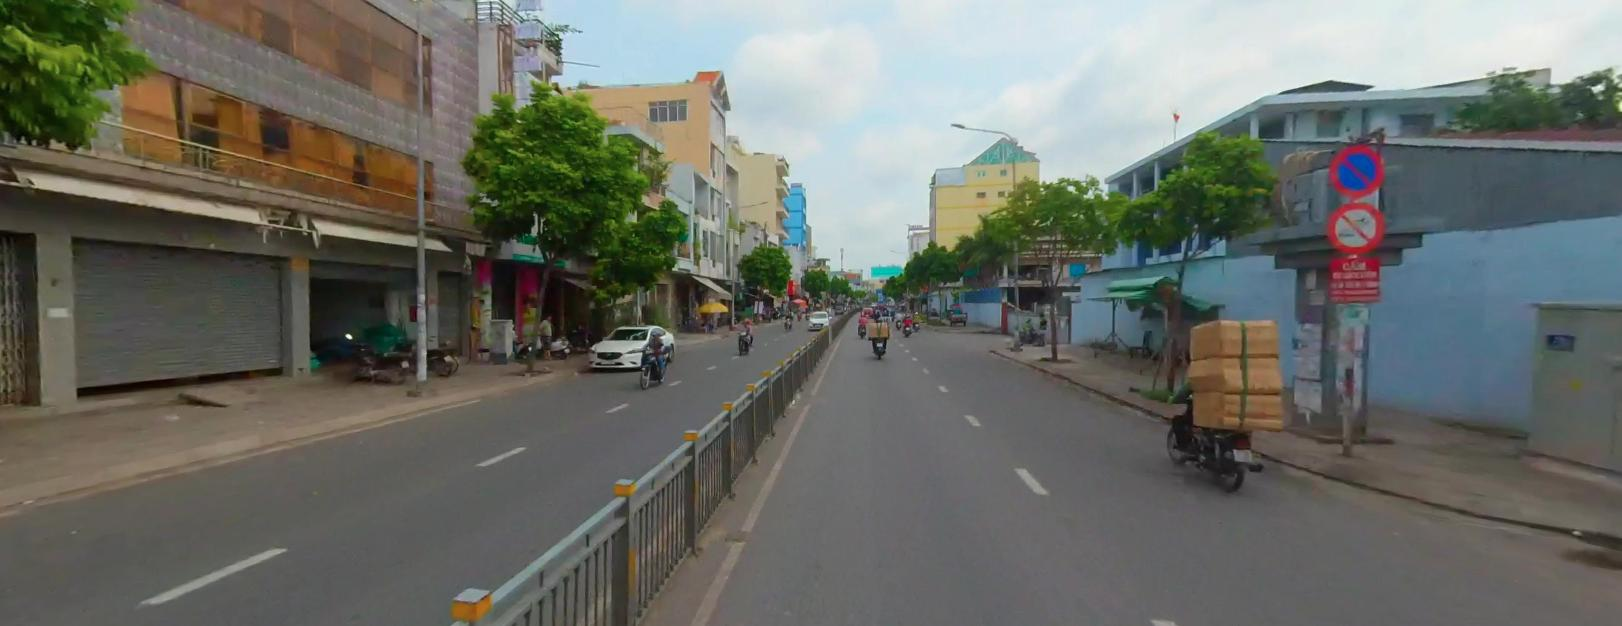Cam con lai: (1327, 201, 1383, 252)
Cam dung va do: (1330, 145, 1383, 196)
